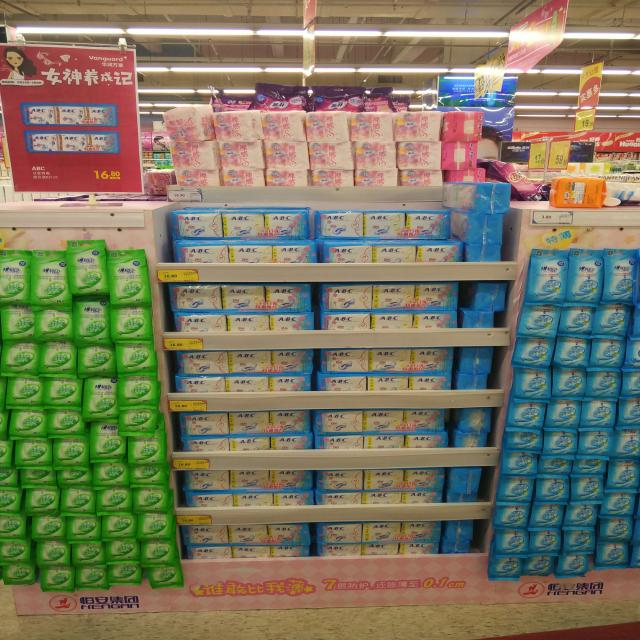unorganised: (462, 281, 505, 328)
